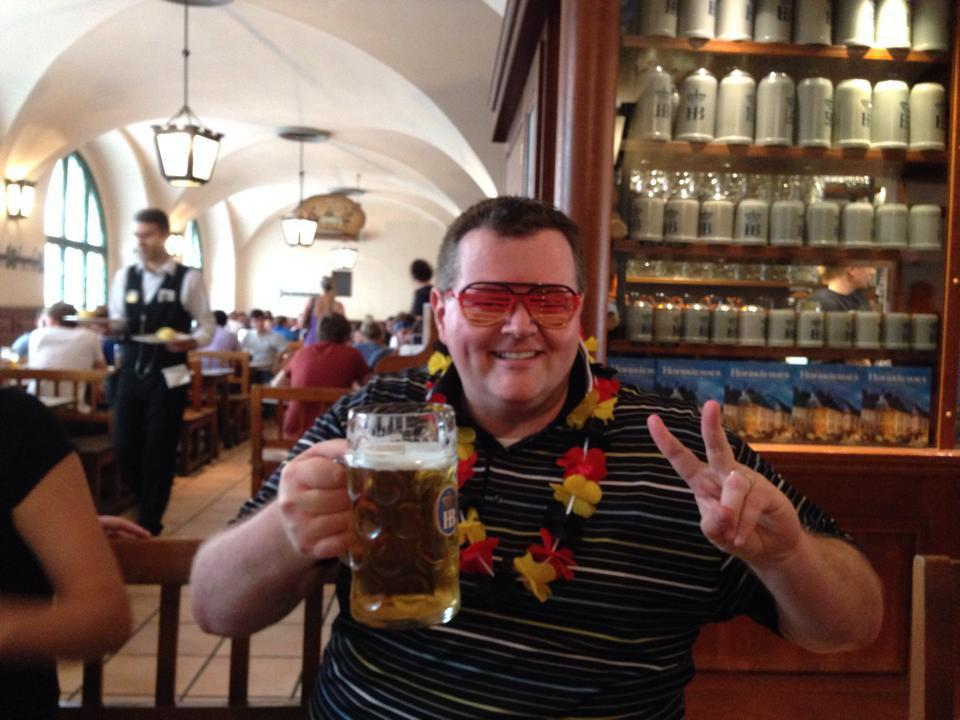Drunk: (457, 239, 577, 400)
